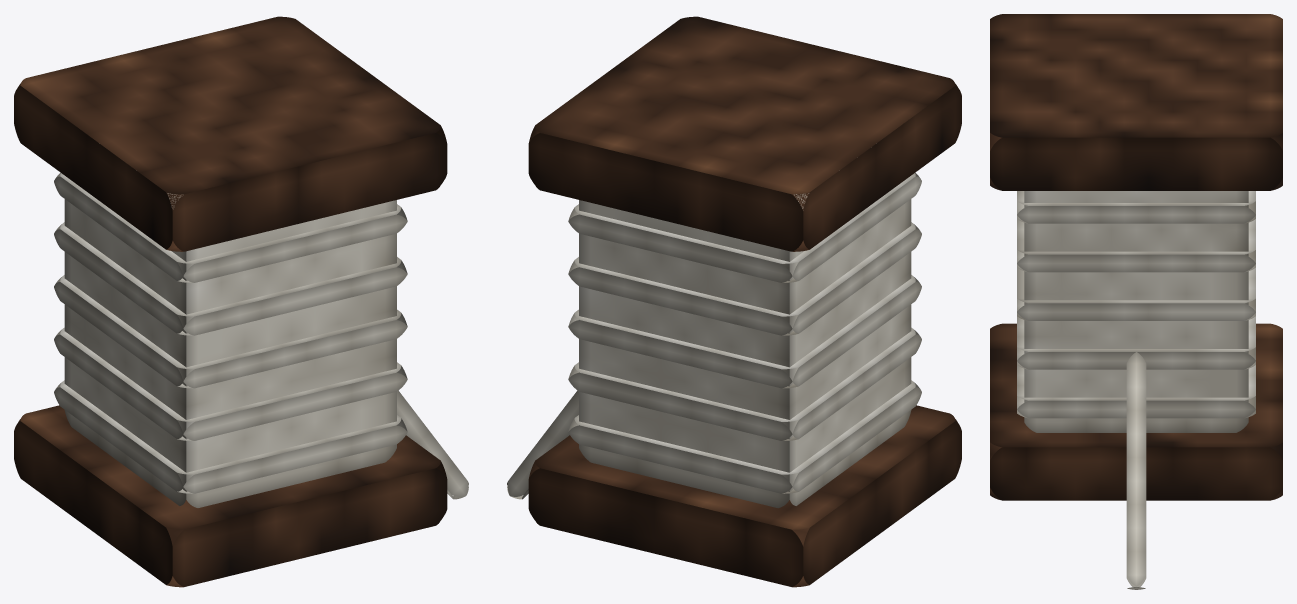
File: silk_thread.obj
3 renders of one model, left to right at view 1: azimuth 30°, elevation 25°; view 2: azimuth 150°, elevation 25°; view 3: azimuth 270°, elevation 25°, orthographic. The views are drawn at different scales.
Visible parts, largest first — view 1: lit; view 2: lit; view 3: lit.
Part boxes in pixels (<box>): lit: <box>14,16,468,587</box>; lit: <box>507,16,961,587</box>; lit: <box>990,14,1282,589</box>.
Size of the model in its own units: 0.5121 by 0.5846 by 0.375.
